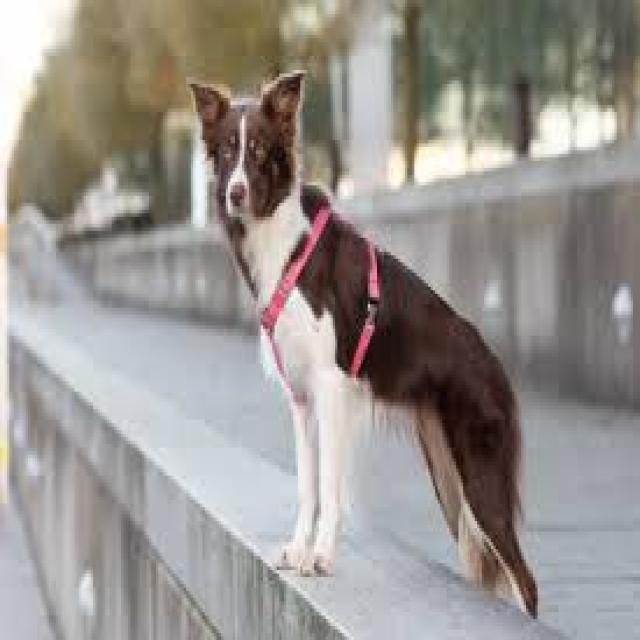ALASKAN_MALAMUTE: (180, 52, 552, 625)
